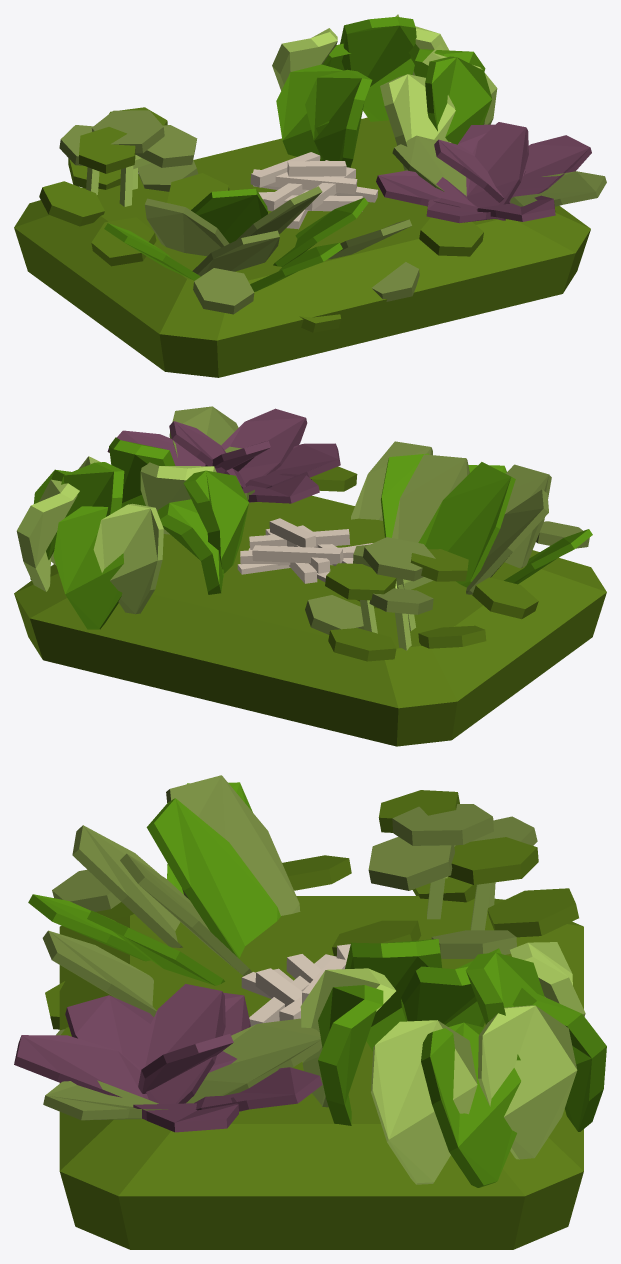
Rendered from SM_Cook_HerbPile_01.obj.
The picture shows the model from 3 angles, top to bottom: view 1: azimuth 30°, elevation 25°; view 2: azimuth 150°, elevation 25°; view 3: azimuth 270°, elevation 25°; orthographic projection. The views are drawn at different scales.
Parts seen in each view (by area): view 1: SM_Cook_HerbPile_01; view 2: SM_Cook_HerbPile_01; view 3: SM_Cook_HerbPile_01.
Part boxes in pixels (x1,y1,x2,y2): SM_Cook_HerbPile_01: (14,14,606,377); SM_Cook_HerbPile_01: (14,406,606,746); SM_Cook_HerbPile_01: (14,775,606,1249).
Bounding box in the file's own units: 0.3835 × 0.138 × 0.3031.
1 material, 1 textured.
